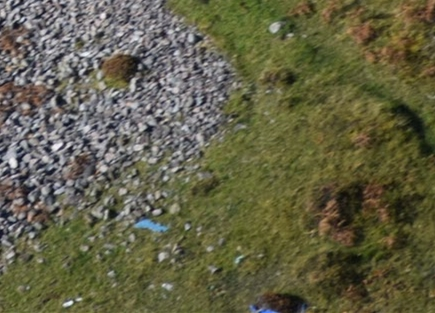white_in_green: (121, 204, 181, 242)
